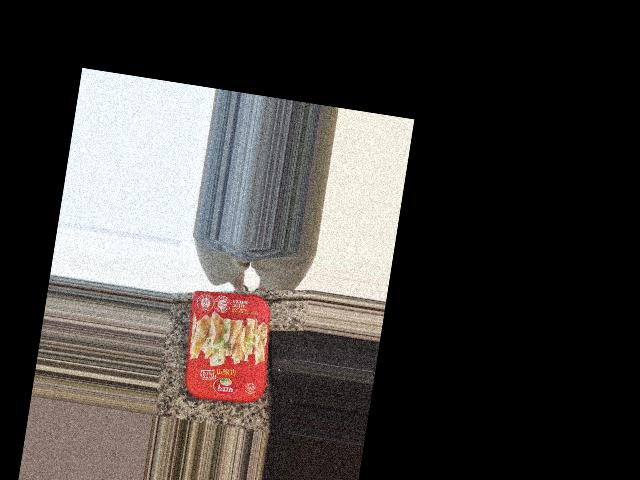cheese: (191, 265, 294, 387)
